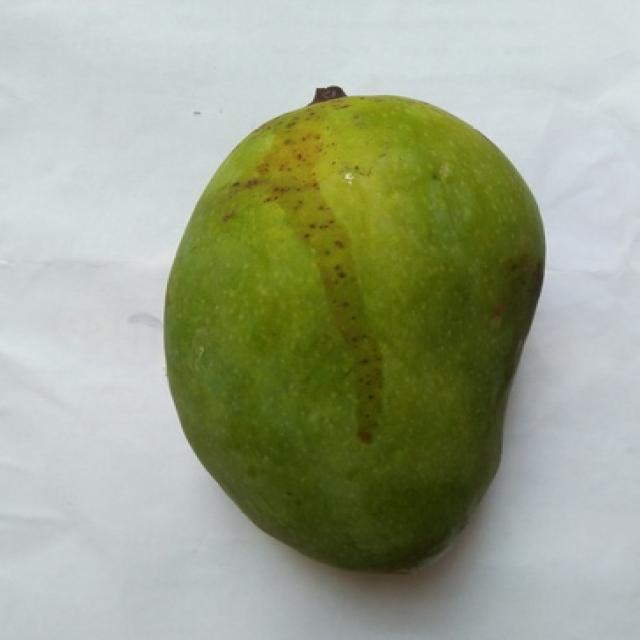Mango: (165, 96, 543, 570)
